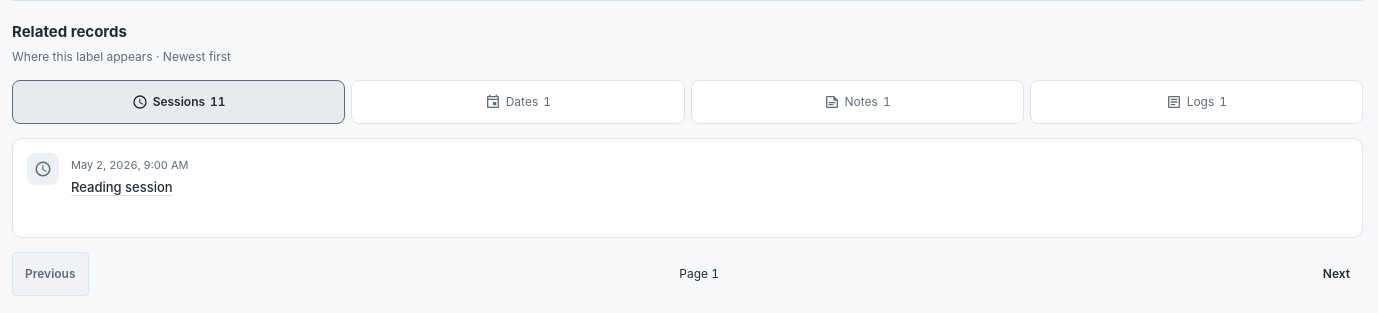
Test case: retries a failed related-record page without duplicating rows
What coordinates should you click on to do the following:
click the button "Next"
I would click on:
 (1336, 274)
Its box is left=1310, top=252, right=1363, bottom=296.
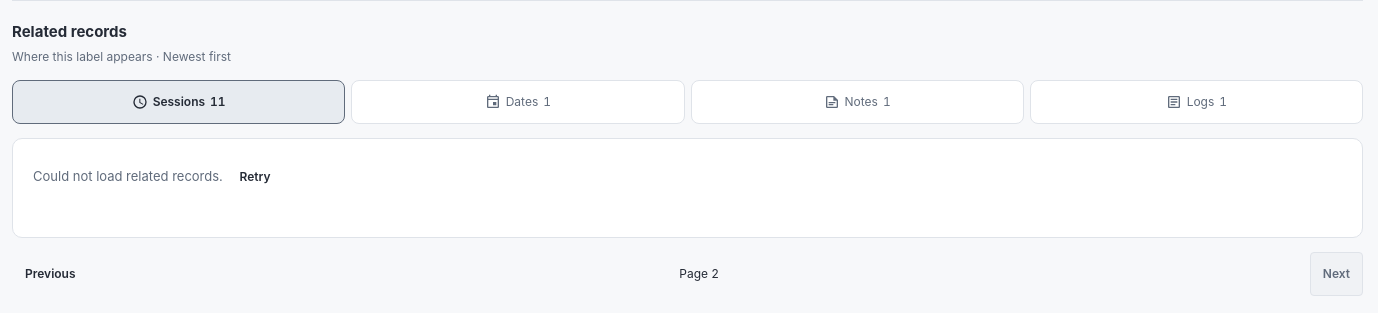
Expected: the message "Could not load related records. Retry" is shown, left=33, top=158, right=284, bottom=194
What coordinates should you click on to do the following:
click the button "Retry"
I would click on:
 (255, 176)
Its box is left=226, top=158, right=284, bottom=194.
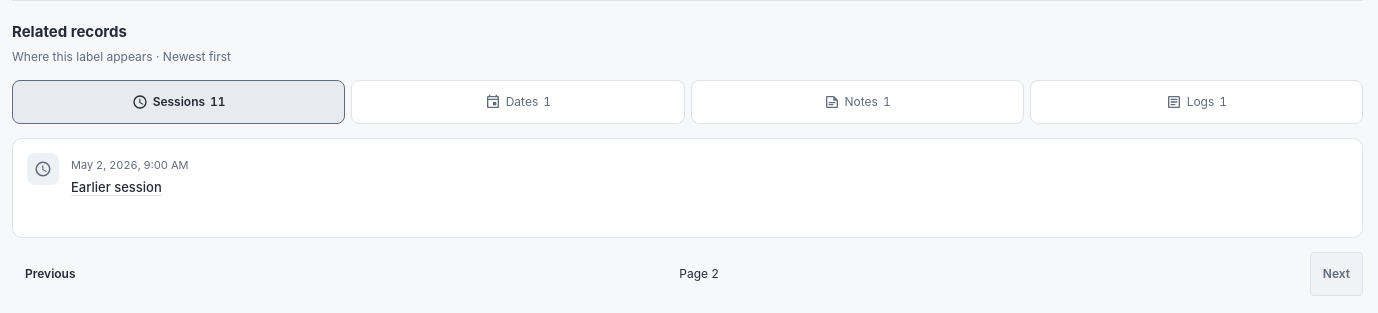
Expected: the elements with class "record-title" read "Earlier session", in this order, left=71, top=178, right=162, bottom=194
